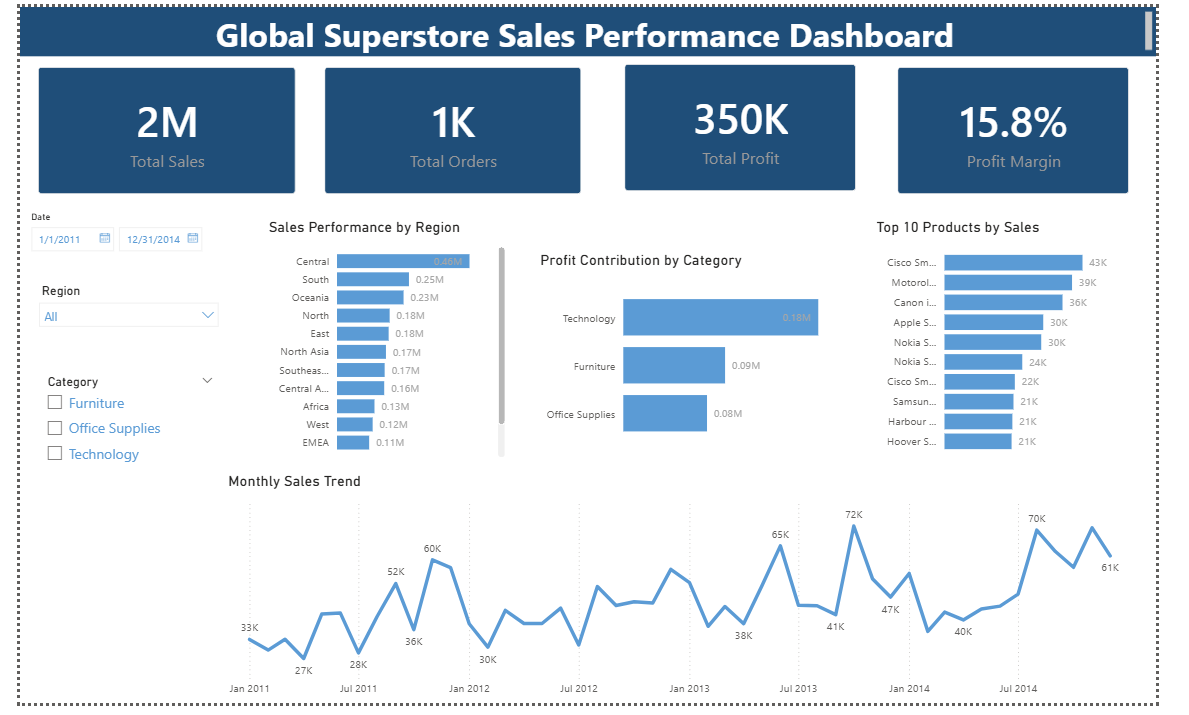

What the dashboard file says about the page in this screenshot:
{"tool":"powerbi","page":{"name":"Performance overview","canvas":[1306,800],"ordinal":0},"visuals":[{"type":"cardVisual","fields":{"Data":["super_store.Total Sales"]},"box":[3.8,50.9,330,180],"z":0},{"type":"cardVisual","fields":{"Data":["super_store.Total Profit"]},"box":[678.4,49,300,180.4],"z":1000},{"type":"cardVisual","fields":{"Data":["super_store.Total Orders"]},"box":[333.3,51,329.4,180.4],"z":2000},{"type":"cardVisual","fields":{"Data":["super_store.Profit Margin"]},"box":[992.2,51,300,180.4],"z":3000},{"type":"clusteredBarChart","title":"Sales Performance by Region","fields":{"Category":["super_store.Region"],"Y":["super_store.Total Sales"]},"box":[281.1,243.4,281.1,279.2],"z":4000},{"type":"lineChart","title":"Monthly Sales Trend","fields":{"Y":["super_store.Total Sales"],"Category":["super_store.OrderDate.Variation.Date Hierarchy.Year","super_store.OrderDate.Variation.Date Hierarchy.Month"]},"box":[234,534,1045.3,266],"z":5000},{"type":"barChart","title":"Top 10 Products by Sales","fields":{"Category":["super_store.ProductName"],"Y":["super_store.Total Sales"]},"box":[979.2,243.4,279.2,279.2],"z":6000},{"type":"barChart","title":"Profit Contribution by Category","fields":{"Y":["Sum(super_store.Profit)"],"Category":["super_store.Category"]},"box":[592.5,281.1,367.9,235.8],"z":7000},{"type":"slicer","fields":{"Values":["super_store.Region"]},"box":[12.3,312.3,226.2,69.2],"z":8000},{"type":"slicer","fields":{"Values":["super_store.Category"]},"box":[18.5,416.9,215.4,129.2],"z":9000},{"type":"slicer","fields":{"Values":["super_store.OrderDate"]},"box":[0,230,238.6,68.6],"z":10000},{"type":"textbox","box":[0,0,1306.2,56.9],"z":10001}]}

Visuals, with their boxes in screenshot pixels (x1, y1, x2, y2), scaled from the page's 1306x800 canvas onto the 1189x715 screenshot:
cardVisual - super_store.Total Sales: [3,45,304,206]
cardVisual - super_store.Total Profit: [618,44,891,205]
cardVisual - super_store.Total Orders: [303,46,603,207]
cardVisual - super_store.Profit Margin: [903,46,1176,207]
"Sales Performance by Region" clusteredBarChart: [256,218,512,467]
"Monthly Sales Trend" lineChart: [213,477,1165,714]
"Top 10 Products by Sales" barChart: [891,218,1146,467]
"Profit Contribution by Category" barChart: [539,251,874,462]
slicer - super_store.Region: [11,279,217,341]
slicer - super_store.Category: [17,373,213,488]
slicer - super_store.OrderDate: [0,206,217,267]
textbox: [0,0,1188,51]
